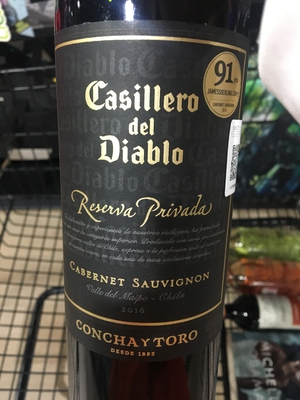casillero del diablo reserva privada cabernet sauvignon: (46, 6, 257, 394)
